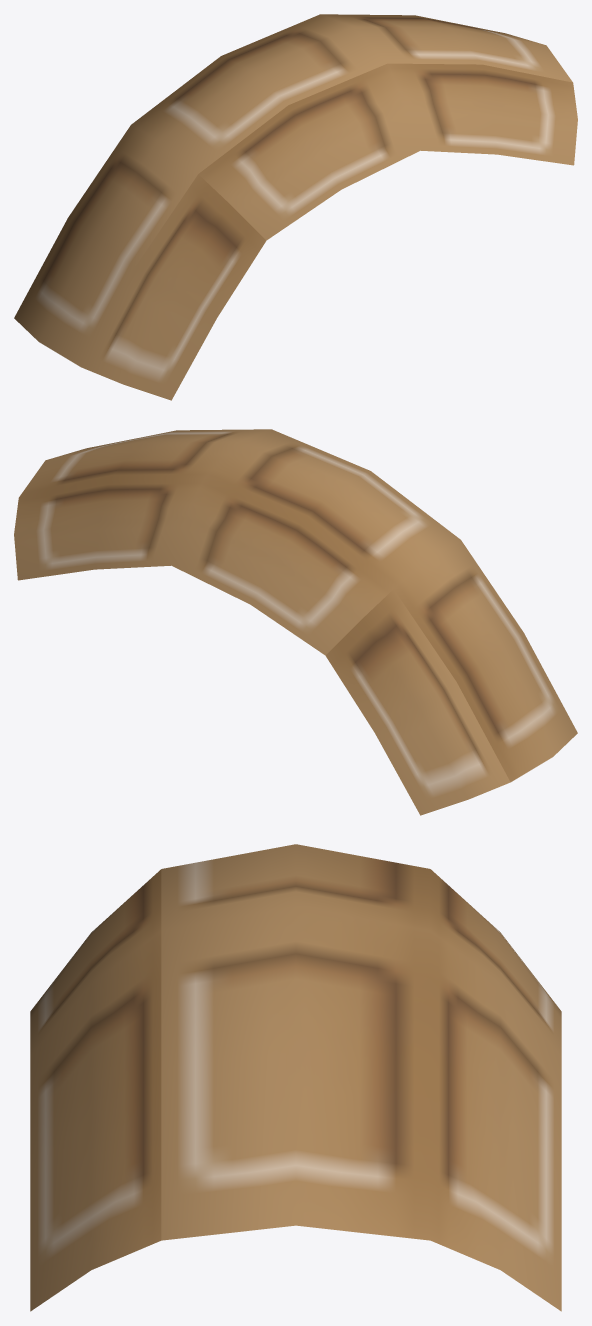
Rendered from apolloj5.obj.
3 views of the same model, one above another, from view 1: azimuth 30°, elevation 25°; view 2: azimuth 150°, elevation 25°; view 3: azimuth 270°, elevation 25° (orthographic). The views are drawn at different scales.
Visible parts, largest first — view 1: ColobotMesh_1_ColobotMesh_; view 2: ColobotMesh_1_ColobotMesh_; view 3: ColobotMesh_1_ColobotMesh_.
Part boxes in pixels (<box>): ColobotMesh_1_ColobotMesh_: <box>14,14,577,400</box>; ColobotMesh_1_ColobotMesh_: <box>14,429,577,815</box>; ColobotMesh_1_ColobotMesh_: <box>30,844,561,1311</box>.
Bounding box in the file's own units: 3.38 × 1.68 × 1.53.
